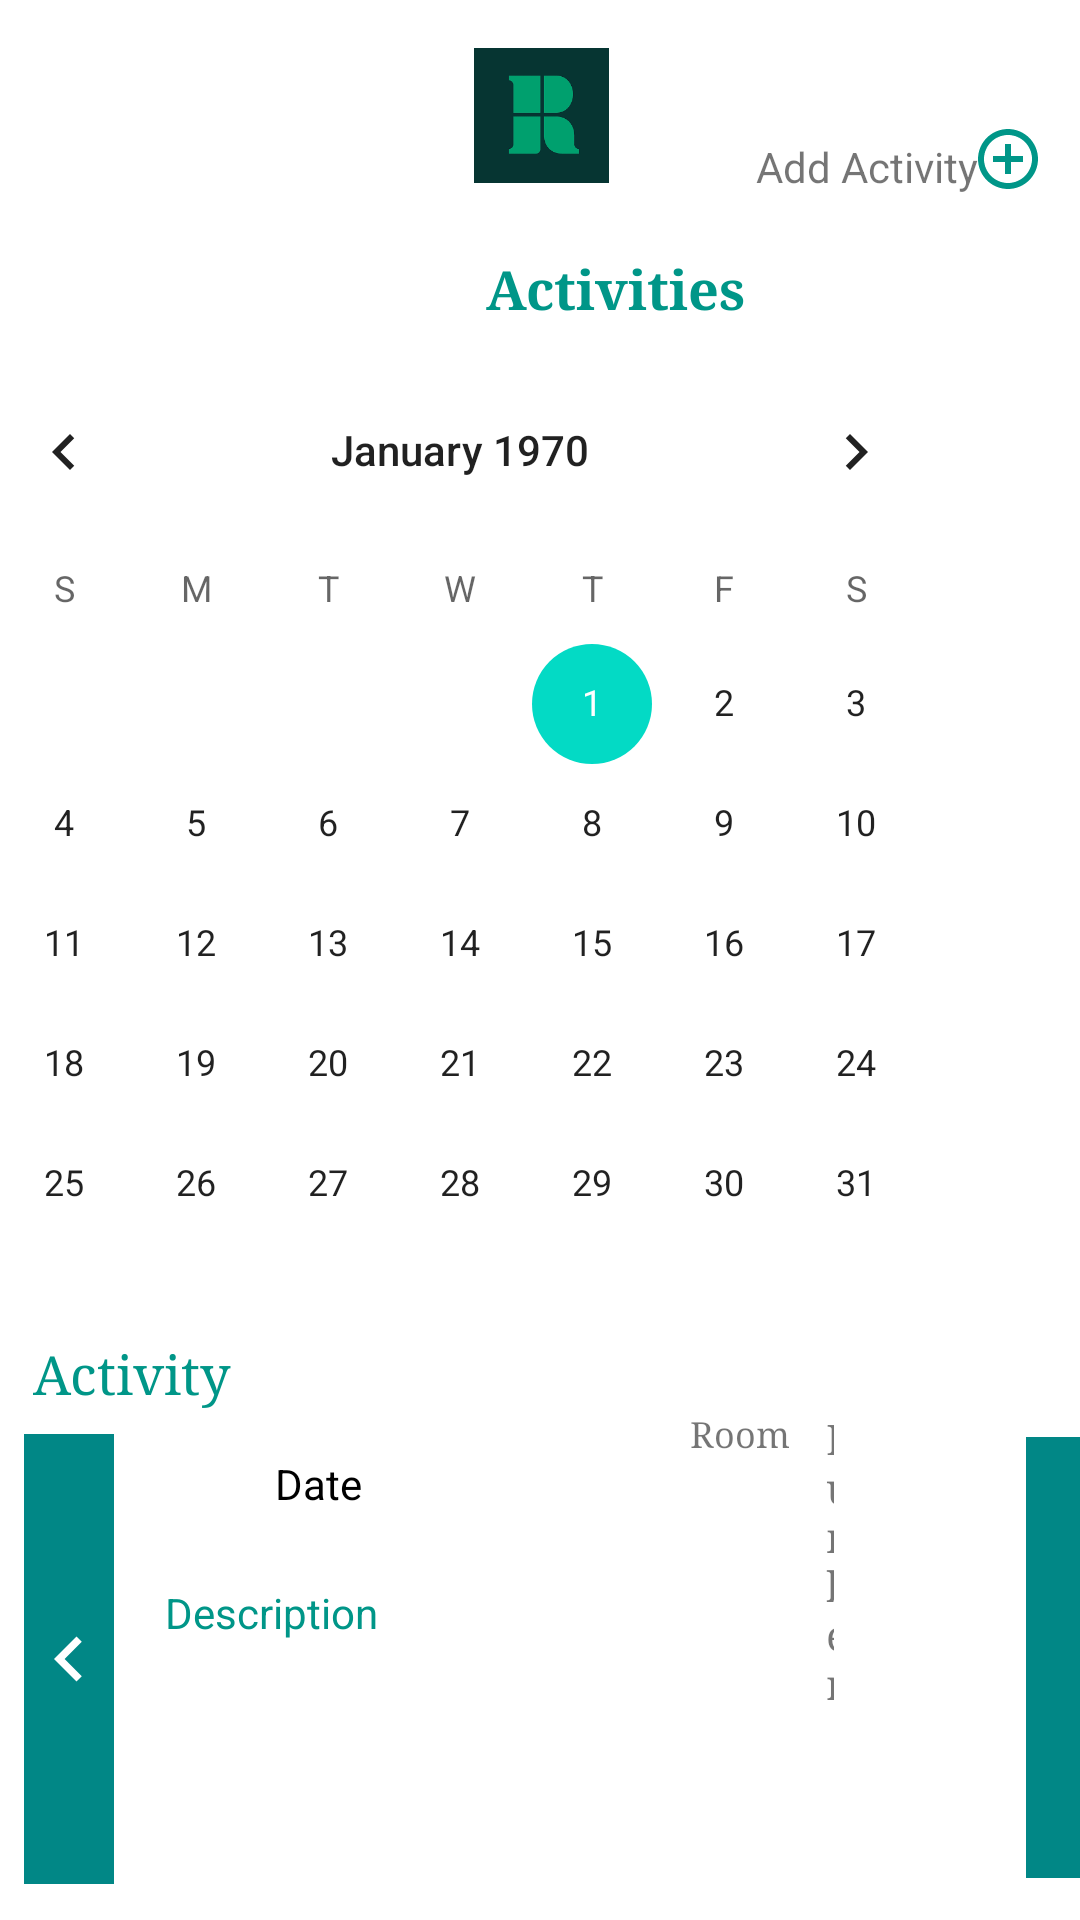

Where to tap for icons on this 1080x1920 app screen, as point (x, y):
add circle: point (1008, 159)
